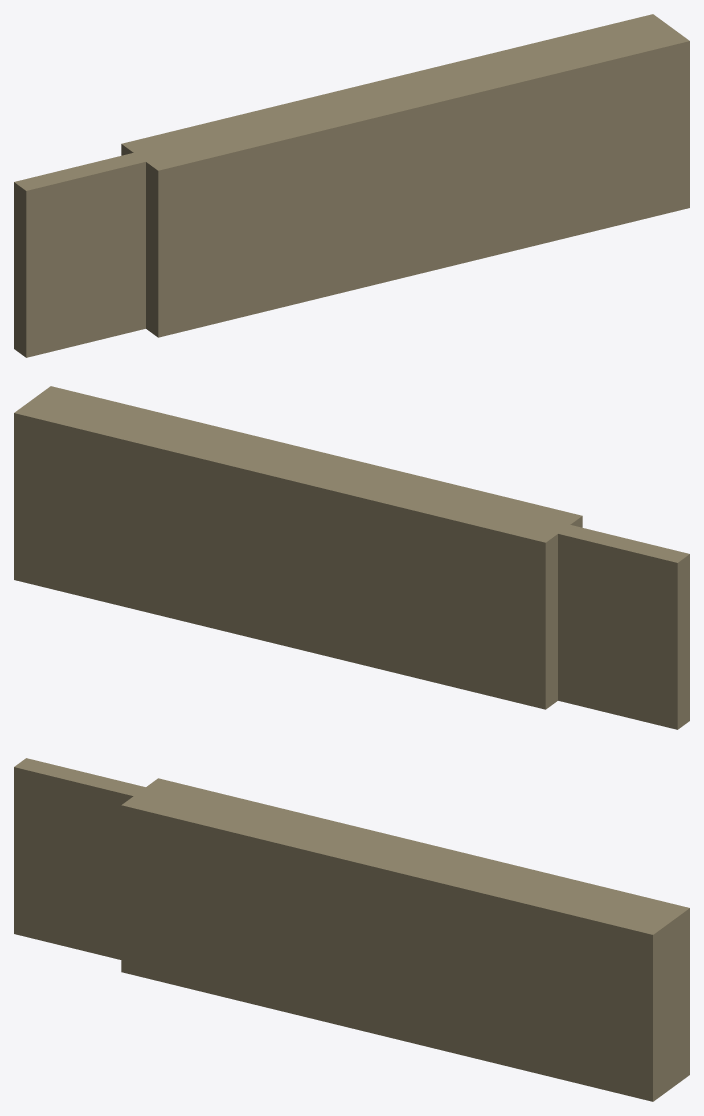
File: lake-gubach-shallows-0.glb
The picture shows the model from 3 angles, top to bottom: view 1: azimuth 30°, elevation 25°; view 2: azimuth 150°, elevation 25°; view 3: azimuth 330°, elevation 25°; orthographic projection.
Parts seen in each view (by area): view 1: body, tail; view 2: body, tail; view 3: body, tail.
Part boxes in pixels (x1=…): body: x1=121, y1=14, x2=689, y2=337; tail: x1=14, y1=149, x2=158, y2=357; body: x1=14, y1=386, x2=582, y2=709; tail: x1=545, y1=521, x2=689, y2=729; body: x1=121, y1=778, x2=689, y2=1101; tail: x1=14, y1=758, x2=153, y2=959.
Size of the model in its own units: 0.147 by 0.036 by 0.0144.
